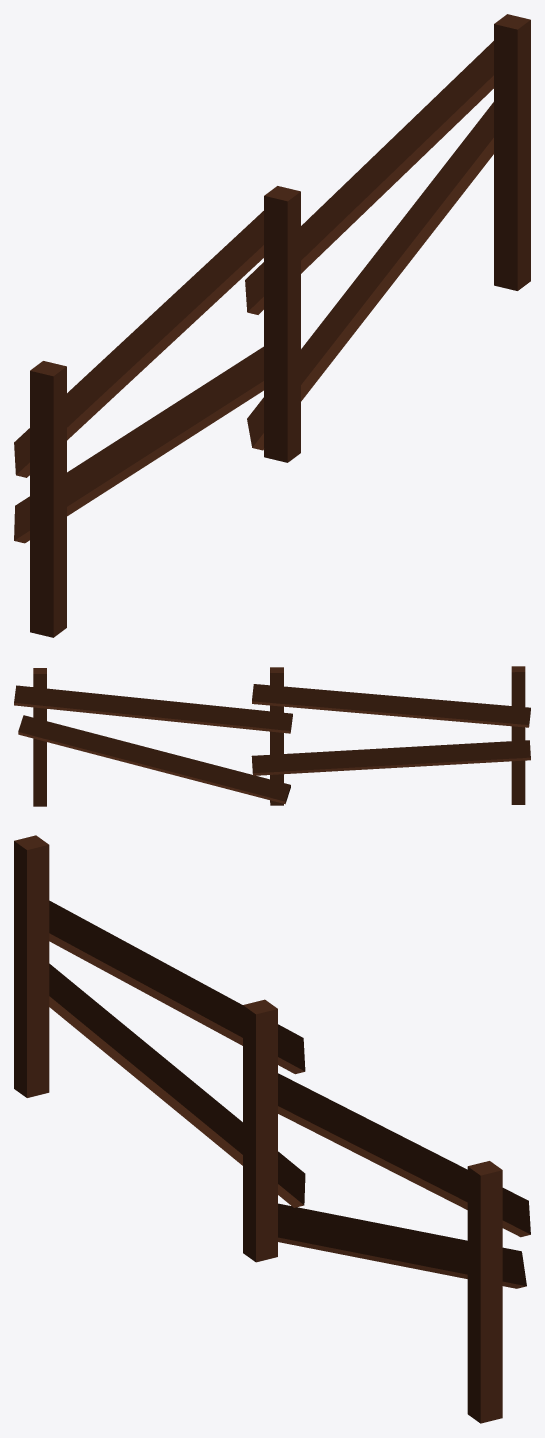
File: Fence.fbx
3 renders of one model, top to bottom at view 1: azimuth 30°, elevation 25°; view 2: azimuth 150°, elevation 25°; view 3: azimuth 270°, elevation 25°, orthographic. The views are drawn at different scales.
Visible parts, largest first — view 1: Cube.015, Cube.010, Cube.013, Cube.009, Cube.011, Cube.014, Cube.012; view 2: Cube.012, Cube.013, Cube.010, Cube.015, Cube.011, Cube.014, Cube.009; view 3: Cube.012, Cube.014, Cube.011, Cube.013, Cube.009, Cube.010, Cube.015.
Part boxes in pixels (left/top/right/bottom): Cube.015: left=247, top=102, right=494, bottom=450; Cube.010: left=245, top=41, right=493, bottom=314; Cube.013: left=14, top=211, right=264, bottom=477; Cube.009: left=264, top=186, right=300, bottom=462; Cube.011: left=30, top=361, right=66, bottom=637; Cube.014: left=494, top=14, right=530, bottom=290; Cube.012: left=14, top=346, right=264, bottom=543; Cube.012: left=251, top=740, right=530, bottom=775; Cube.013: left=252, top=684, right=530, bottom=727; Cube.010: left=14, top=685, right=292, bottom=733; Cube.015: left=18, top=715, right=290, bottom=804; Cube.011: left=511, top=666, right=525, bottom=804; Cube.014: left=33, top=668, right=46, bottom=806; Cube.009: left=270, top=667, right=283, bottom=805; Cube.012: left=49, top=963, right=305, bottom=1207; Cube.014: left=467, top=1161, right=502, bottom=1423; Cube.011: left=14, top=835, right=49, bottom=1097; Cube.013: left=49, top=900, right=305, bottom=1074; Cube.009: left=243, top=999, right=277, bottom=1262; Cube.010: left=278, top=1073, right=530, bottom=1237; Cube.015: left=278, top=1203, right=526, bottom=1288.
Size of the model in its own units: 373 by 230 by 122.
